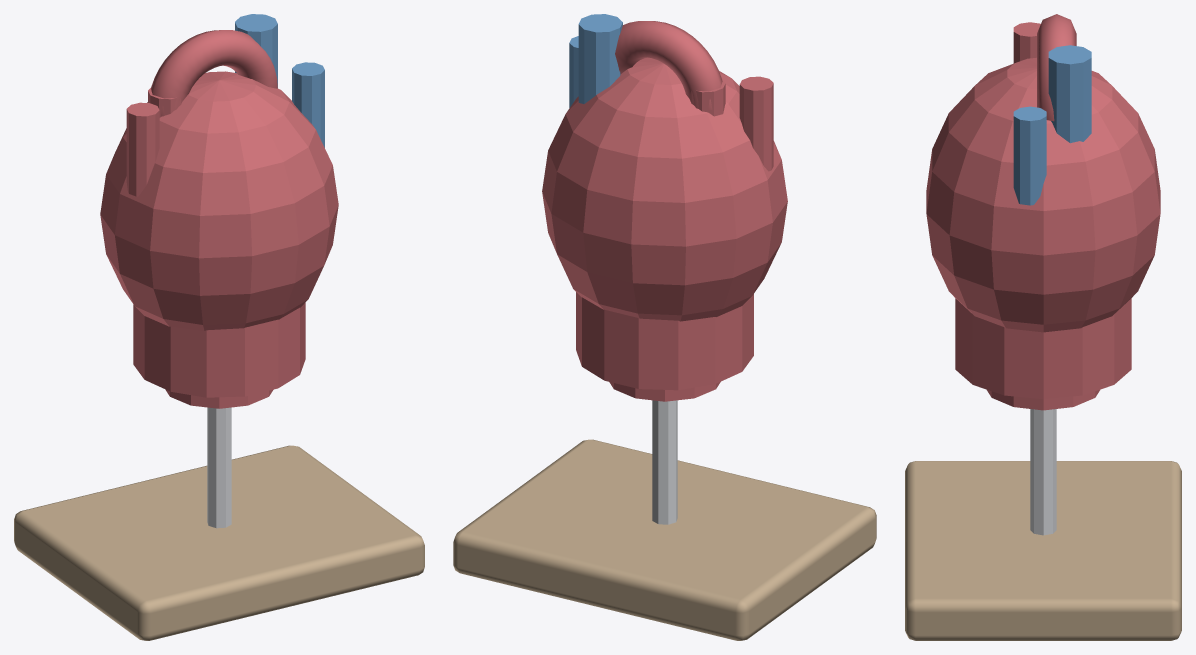
The model's file is heart.glb.
The picture shows the model from 3 angles, left to right: view 1: azimuth 30°, elevation 25°; view 2: azimuth 150°, elevation 25°; view 3: azimuth 270°, elevation 25°; orthographic projection. The views are drawn at different scales.
Parts seen in each view (by area): view 1: heart-model; view 2: heart-model; view 3: heart-model.
Boxes of the visible parts, bbox=[...] form: heart-model: bbox=[14, 14, 424, 640]; heart-model: bbox=[453, 14, 876, 640]; heart-model: bbox=[905, 14, 1181, 640].
Bounding box in the file's own units: 0.26 × 0.457 × 0.208.
